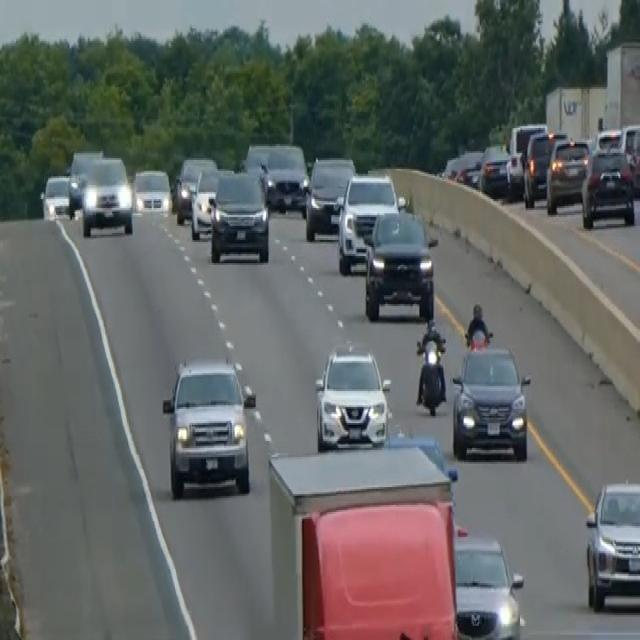car: (450, 340, 531, 462), (313, 343, 392, 450), (452, 530, 524, 638), (584, 476, 639, 614), (333, 170, 400, 274), (208, 167, 270, 263), (580, 144, 635, 228), (304, 153, 355, 242), (545, 135, 589, 213), (522, 128, 566, 206), (189, 165, 233, 240), (264, 140, 308, 213), (505, 121, 547, 197), (174, 155, 216, 224), (66, 148, 103, 215), (132, 165, 171, 215), (477, 142, 510, 198), (243, 141, 272, 199), (39, 172, 72, 220), (442, 148, 482, 186)
jeep: (79, 153, 134, 238)
lorry: (266, 439, 466, 638), (362, 204, 438, 322)
minivan: (160, 352, 257, 500)
motorcycle: (414, 329, 447, 416)
